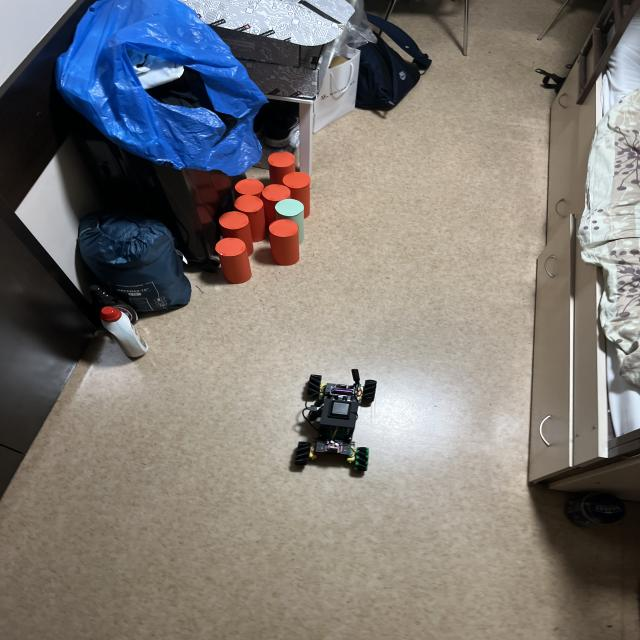robot: (291, 369, 376, 471)
